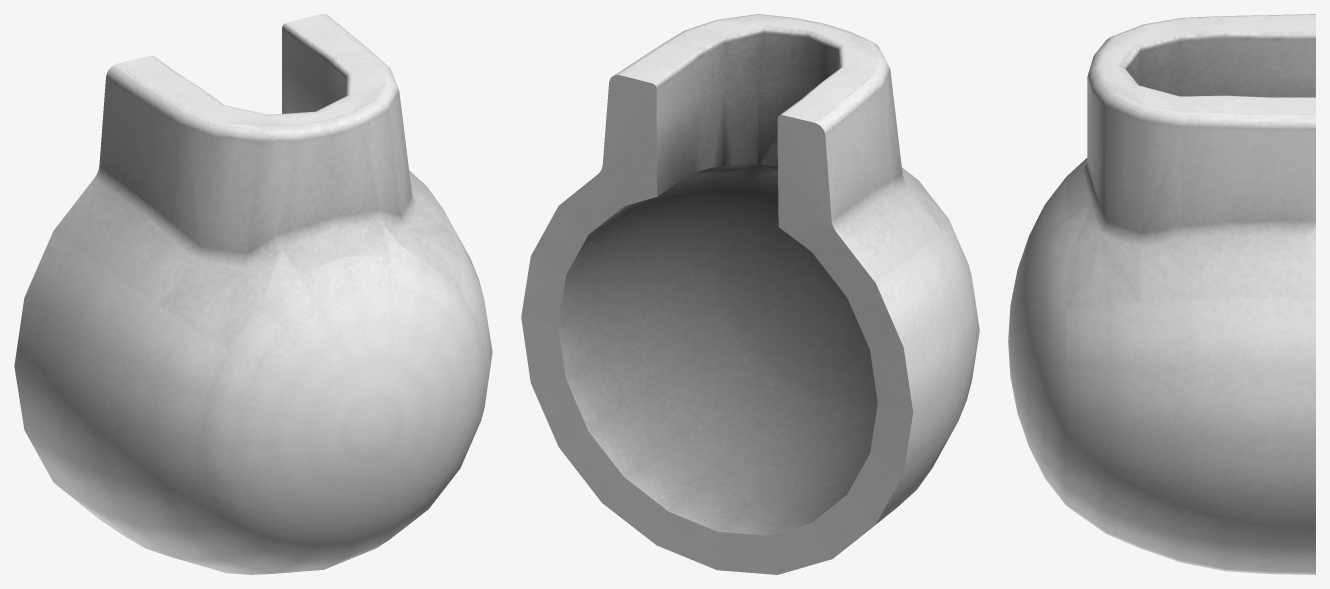
Rendered from iglu.obj.
3 views of the same model, side by side, from view 1: azimuth 30°, elevation 25°; view 2: azimuth 150°, elevation 25°; view 3: azimuth 270°, elevation 25° (orthographic). The views are drawn at different scales.
Visible parts, largest first — view 1: Igloo; view 2: Igloo; view 3: Igloo.
Boxes of the visible parts, <box> form: Igloo: <box>14,14,492,574</box>; Igloo: <box>521,14,979,574</box>; Igloo: <box>1008,14,1315,574</box>.
Bounding box in the file's own units: 2.01 × 2.31 × 1.31.
